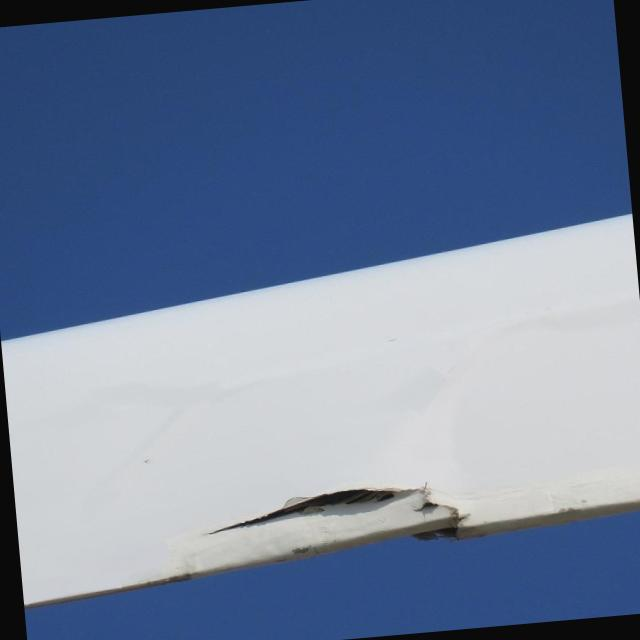crack: (191, 475, 475, 574)
